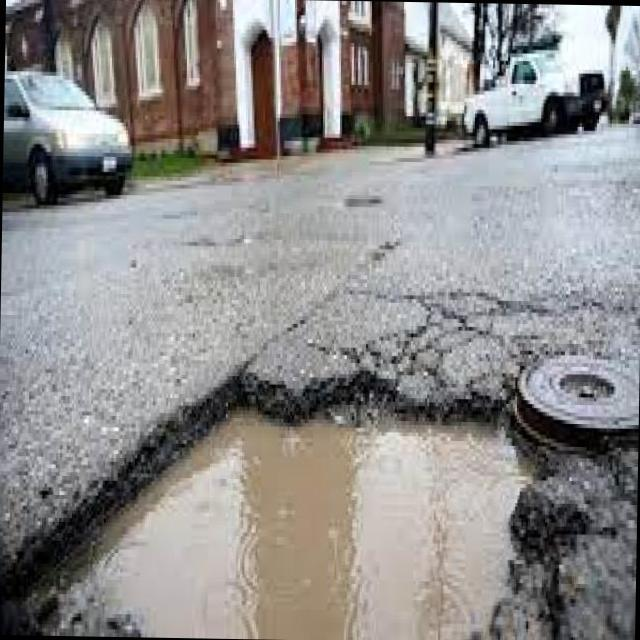Pothole: (5, 364, 636, 640)
